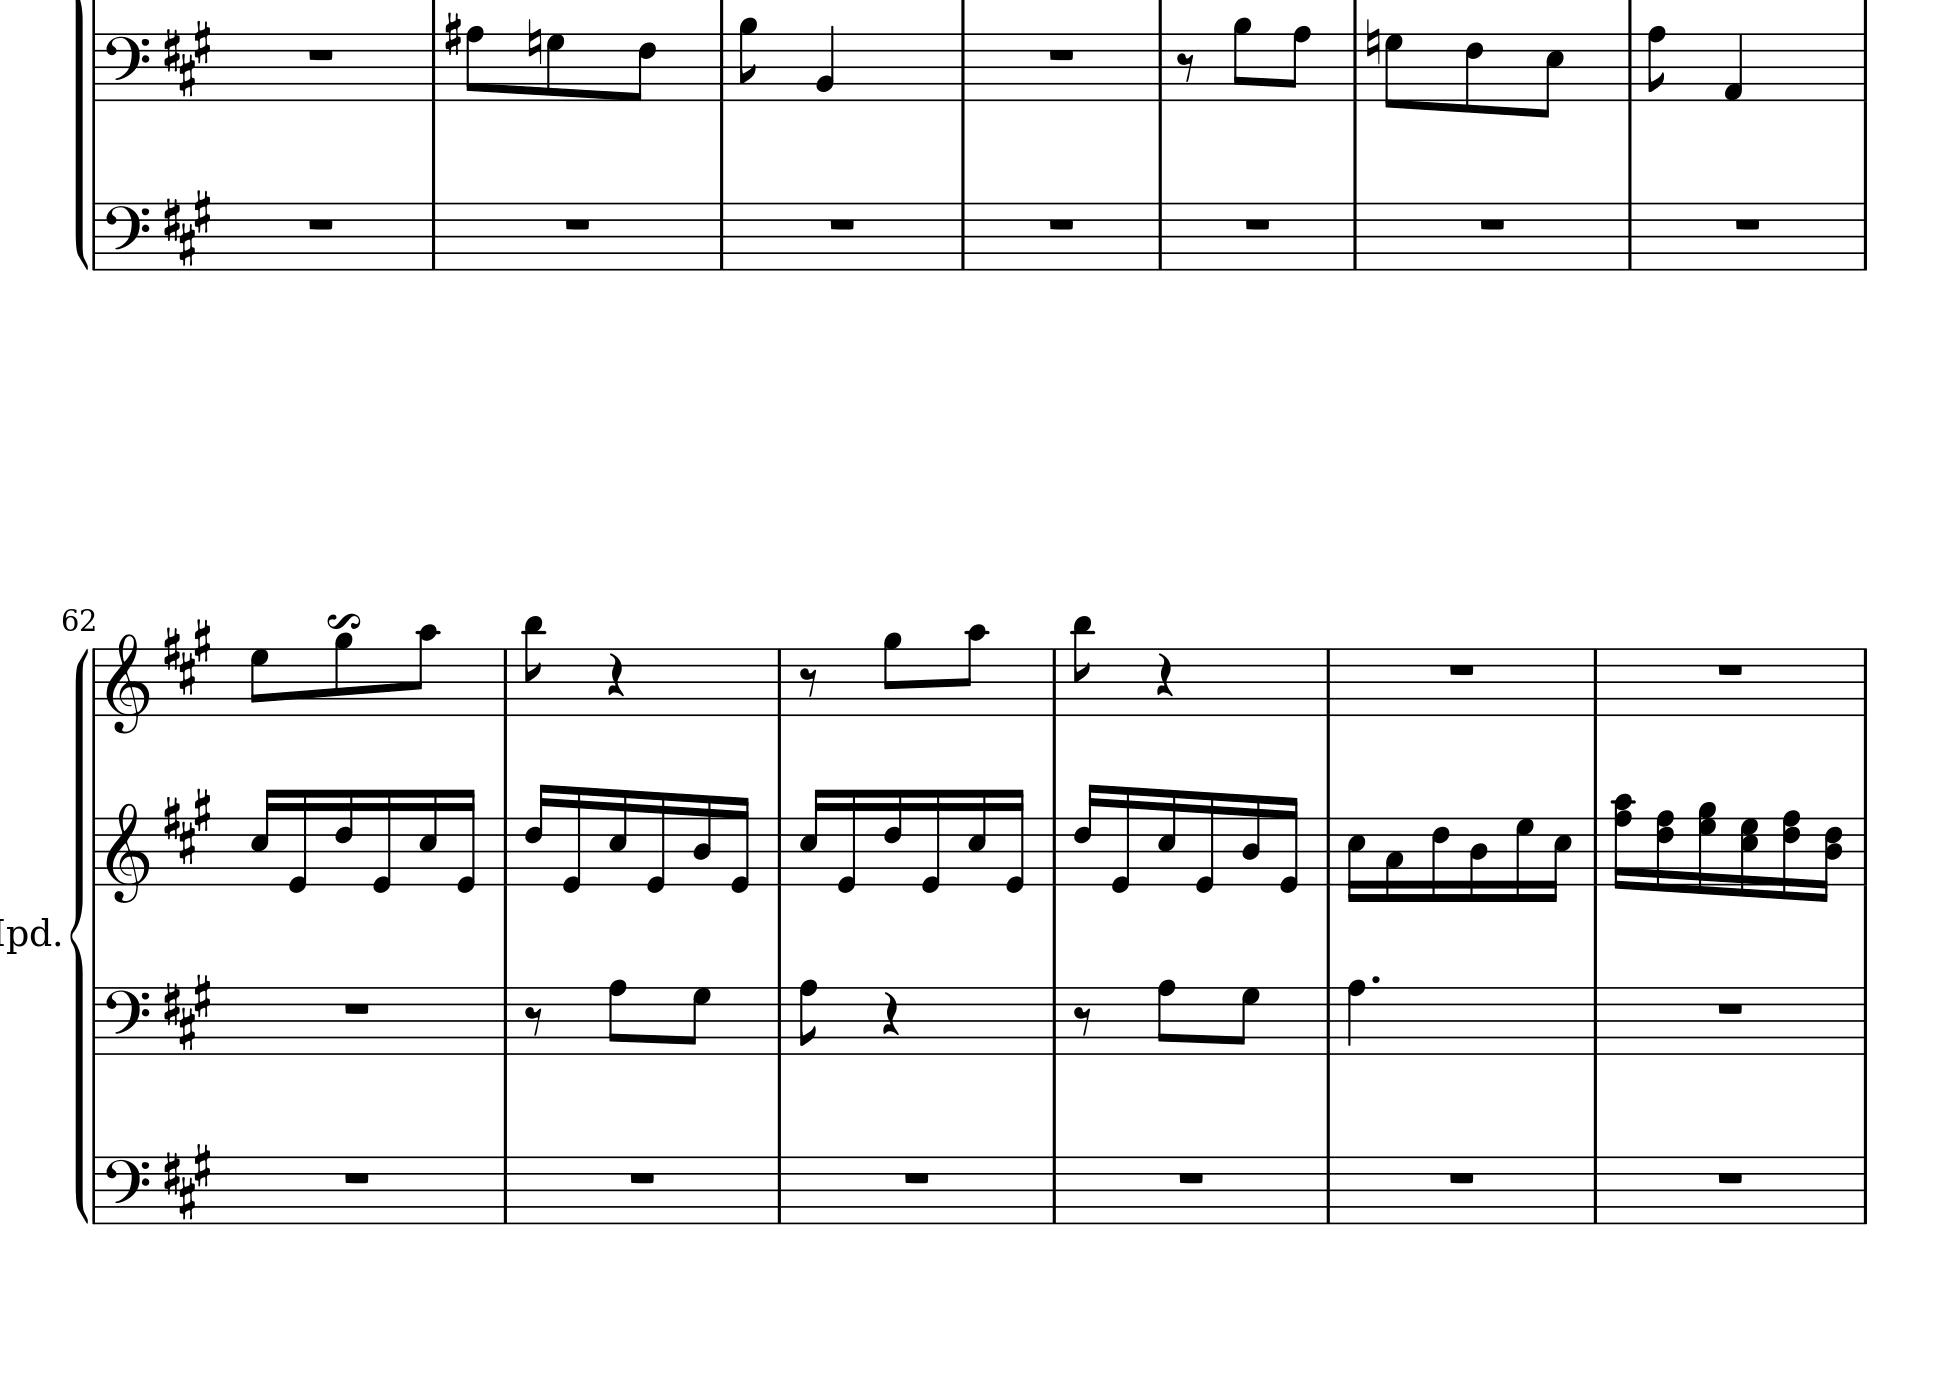16_0: (285, 786, 310, 895), (834, 786, 859, 895), (1003, 786, 1029, 895), (1110, 784, 1134, 895), (370, 786, 394, 895), (454, 786, 478, 895), (559, 784, 583, 894), (643, 787, 667, 895), (919, 787, 943, 895), (1194, 789, 1218, 895), (727, 793, 751, 894), (1278, 795, 1300, 892)
16_3: (1383, 816, 1405, 904)
16_4: (691, 792, 714, 886), (1240, 792, 1263, 886), (1468, 814, 1489, 904)
16_5: (798, 786, 826, 886), (249, 787, 277, 886), (1545, 816, 1573, 903), (966, 786, 990, 886), (607, 784, 630, 886), (417, 787, 439, 886), (1156, 787, 1179, 885), (1347, 816, 1368, 904)
16_6: (523, 781, 552, 888), (1072, 781, 1101, 888), (333, 787, 355, 886), (882, 787, 904, 886), (1429, 814, 1452, 904)
16_7: (1513, 813, 1536, 904)
2: (79, 604, 97, 631)
4_1: (1722, 31, 1744, 102)
4_2: (814, 22, 837, 102)
4_8: (1345, 976, 1368, 1056)
6: (61, 606, 79, 631)
8_10: (406, 622, 439, 718), (955, 622, 987, 717)
8_11: (1071, 613, 1095, 718), (522, 613, 544, 718)
8_5: (1536, 31, 1566, 120)
8_6: (628, 31, 657, 103), (1464, 30, 1485, 115)
8_7: (682, 985, 712, 1054), (1231, 985, 1260, 1054), (1383, 31, 1404, 109), (249, 646, 271, 717), (544, 31, 565, 102)
8_8: (1281, 24, 1312, 103), (463, 22, 486, 103), (1645, 22, 1668, 103), (1155, 976, 1177, 1057), (606, 978, 628, 1057), (796, 976, 819, 1056)
8_9: (331, 630, 354, 718), (880, 630, 903, 718), (736, 16, 759, 103), (1231, 16, 1254, 103)
A_S: (160, 16, 214, 97), (160, 187, 214, 267), (160, 1141, 214, 1221), (160, 786, 213, 865), (160, 972, 213, 1051), (162, 616, 211, 696)
Brace: (69, 633, 91, 1222)
Fclef: (105, 984, 151, 1056), (105, 31, 151, 102), (105, 201, 151, 271), (105, 1153, 151, 1224)
Gclef: (103, 799, 151, 904), (105, 630, 150, 735)
Natural: (526, 16, 543, 67), (1365, 16, 1381, 66)
Rests1: (1446, 658, 1479, 678), (304, 45, 337, 63), (304, 214, 337, 232), (1476, 214, 1509, 232), (1731, 214, 1764, 232), (1714, 1168, 1747, 1186), (826, 214, 858, 232), (1045, 214, 1077, 232), (1242, 214, 1273, 232), (1714, 660, 1746, 678), (340, 999, 372, 1017), (1714, 999, 1746, 1017), (340, 1168, 372, 1186), (627, 1168, 658, 1186), (1176, 1168, 1207, 1186), (1446, 1168, 1477, 1186), (562, 214, 592, 232), (901, 1168, 931, 1186), (1045, 46, 1077, 63)
Rests4: (1152, 649, 1176, 699), (604, 649, 627, 699), (880, 988, 901, 1038)
Rests8: (1071, 1003, 1095, 1038), (522, 1003, 544, 1038), (798, 664, 820, 697), (1176, 49, 1197, 84)
Sharp: (442, 9, 462, 58)
Single_barline: (1320, 985, 1339, 1054), (769, 817, 789, 885), (1045, 817, 1065, 885), (1318, 817, 1338, 885), (1585, 987, 1605, 1054), (1587, 816, 1605, 886), (424, 31, 442, 100), (712, 33, 730, 100), (1621, 33, 1639, 100), (1320, 648, 1338, 715), (1587, 648, 1605, 715), (496, 817, 514, 885), (1855, 817, 1873, 885), (769, 987, 787, 1054), (954, 33, 972, 99), (1152, 33, 1170, 99), (496, 649, 514, 715), (1045, 649, 1063, 715), (1045, 987, 1063, 1053), (1320, 1156, 1338, 1222), (1587, 1156, 1605, 1222), (769, 649, 787, 714), (496, 988, 514, 1053), (1347, 33, 1363, 100), (424, 202, 441, 270), (712, 202, 729, 270), (1152, 202, 1168, 270), (1347, 202, 1363, 270), (1857, 648, 1873, 715), (87, 817, 103, 885), (496, 1156, 513, 1222), (771, 1156, 787, 1222), (1047, 1156, 1063, 1222), (1623, 202, 1638, 270), (1857, 202, 1872, 270), (955, 202, 970, 270), (88, 648, 103, 715), (88, 987, 103, 1054), (1857, 987, 1872, 1054), (1857, 34, 1872, 100), (1857, 1156, 1872, 1222), (88, 33, 102, 100), (88, 202, 102, 270), (88, 1156, 102, 1224)
Turn: (325, 610, 361, 630)
dot: (1368, 972, 1384, 987)
